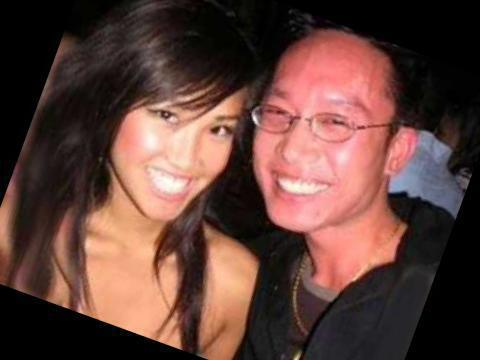Drunk: (263, 46, 393, 230), (126, 75, 232, 217)
